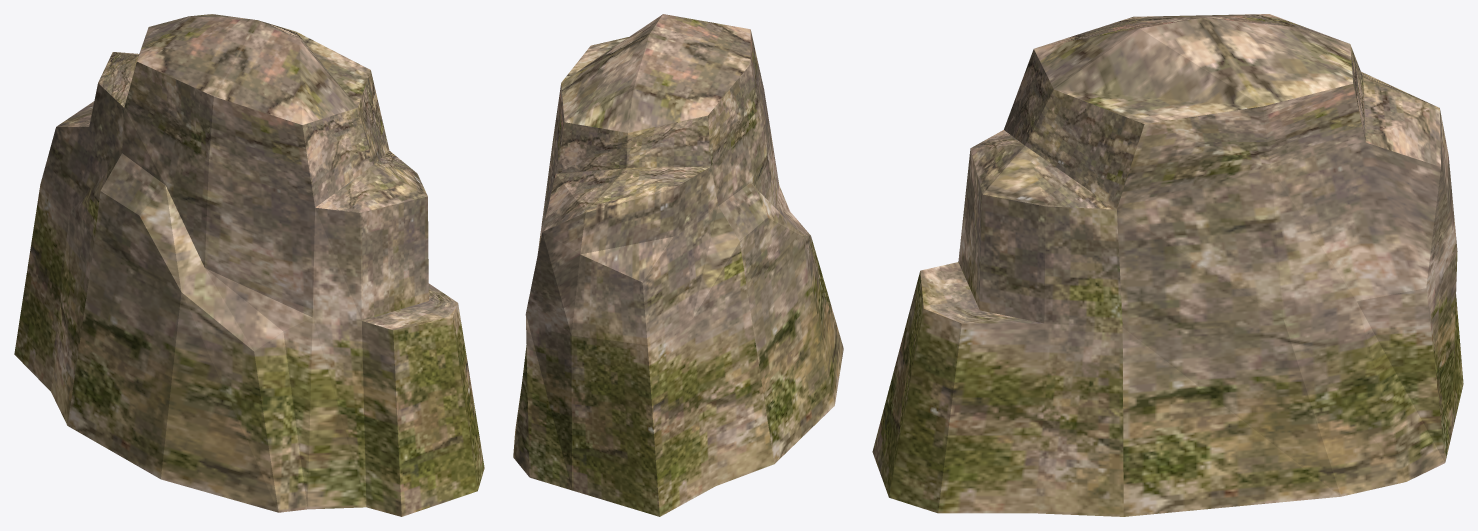
File: town_mountain_a__11___1_.fbx
3 renders of one model, left to right at view 1: azimuth 30°, elevation 25°; view 2: azimuth 150°, elevation 25°; view 3: azimuth 270°, elevation 25°, orthographic. The views are drawn at different scales.
Parts seen in each view (by area): view 1: town_mountain_a__11___1_; view 2: town_mountain_a__11___1_; view 3: town_mountain_a__11___1_.
Part boxes in pixels (<box>): town_mountain_a__11___1_: <box>14,14,484,516</box>; town_mountain_a__11___1_: <box>513,14,843,516</box>; town_mountain_a__11___1_: <box>872,14,1463,516</box>.
Size of the model in its own units: 30.91 by 41.56 by 51.08.
